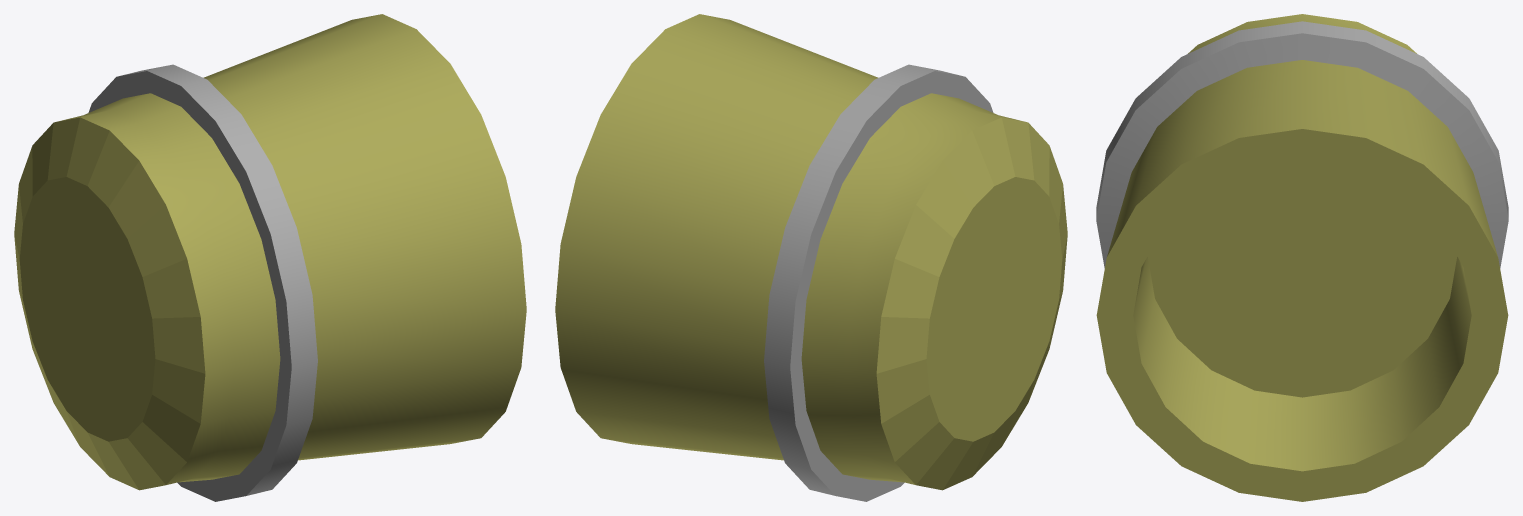
File: Engine 05.fbx
The picture shows the model from 3 angles, left to right: view 1: azimuth 30°, elevation 25°; view 2: azimuth 150°, elevation 25°; view 3: azimuth 270°, elevation 25°; orthographic projection. The views are drawn at different scales.
Parts seen in each view (by area): view 1: Enhine_05; view 2: Enhine_05; view 3: Enhine_05.
Boxes of the visible parts, left/top/right/bottom form: Enhine_05: left=14, top=14, right=526, bottom=501; Enhine_05: left=555, top=14, right=1067, bottom=501; Enhine_05: left=1096, top=14, right=1508, bottom=501.
Size of the model in its own units: 0.7528 by 0.8762 by 0.8762.
